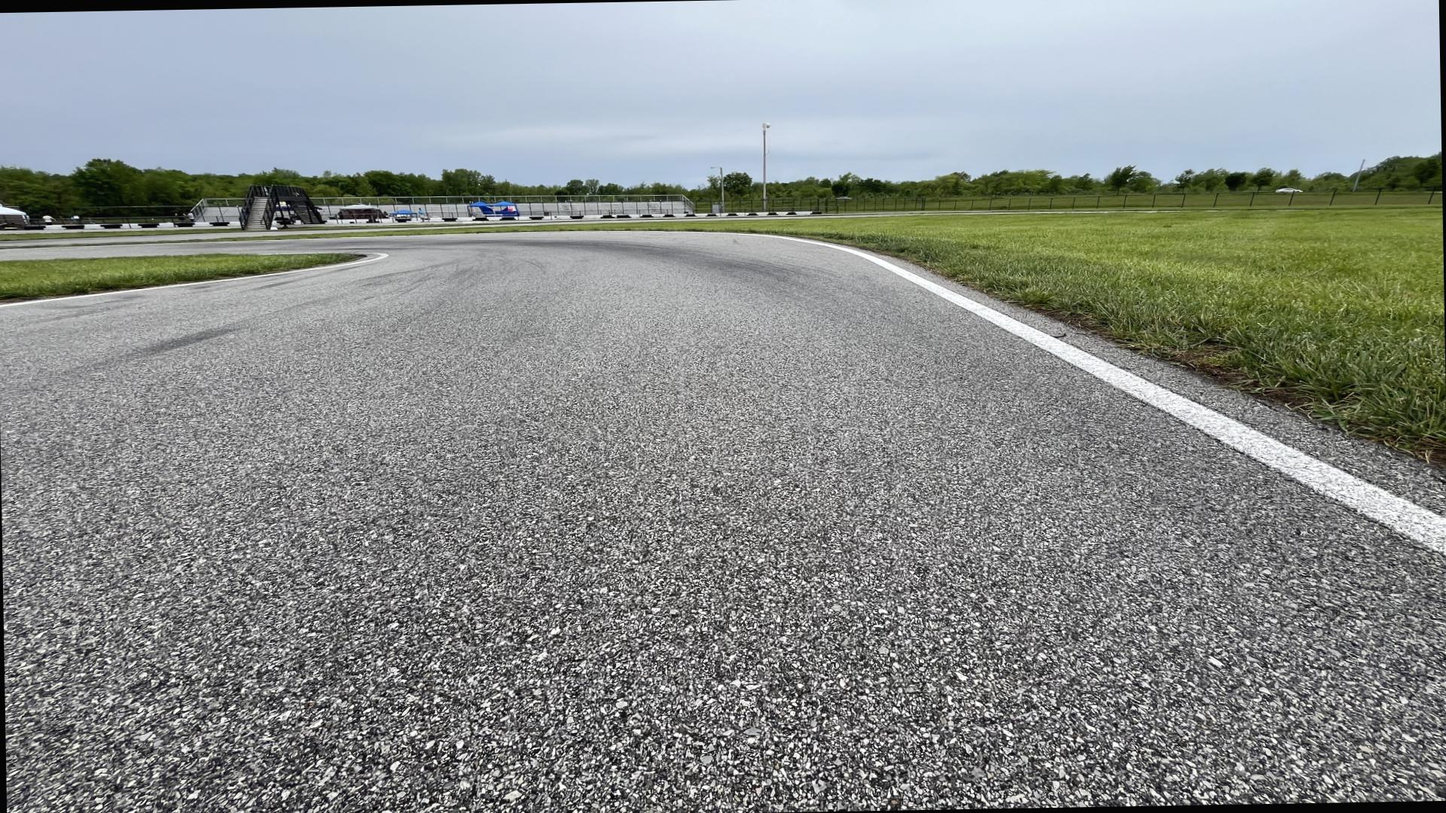white-line: (0, 230, 1445, 561), (0, 252, 389, 308), (261, 252, 345, 255)
